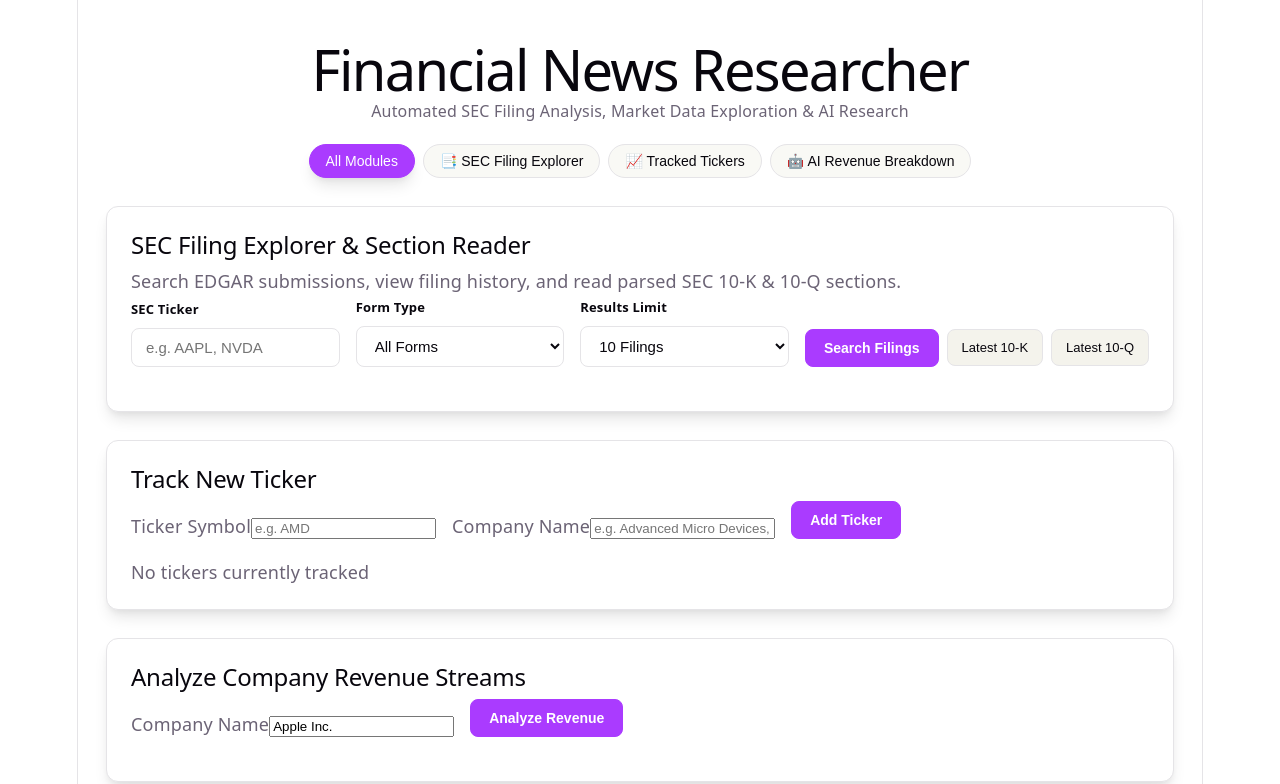
Test case: App Component Integration Tests › creates a new ticker and reloads tickers list
The image size is (1280, 784).
Expected: the text "No tickers currently tracked" is shown, [131,560,369,584]
Type "NVDA" into the field labelled "Ticker Symbol" at [344, 528], box [251,518,436,539]
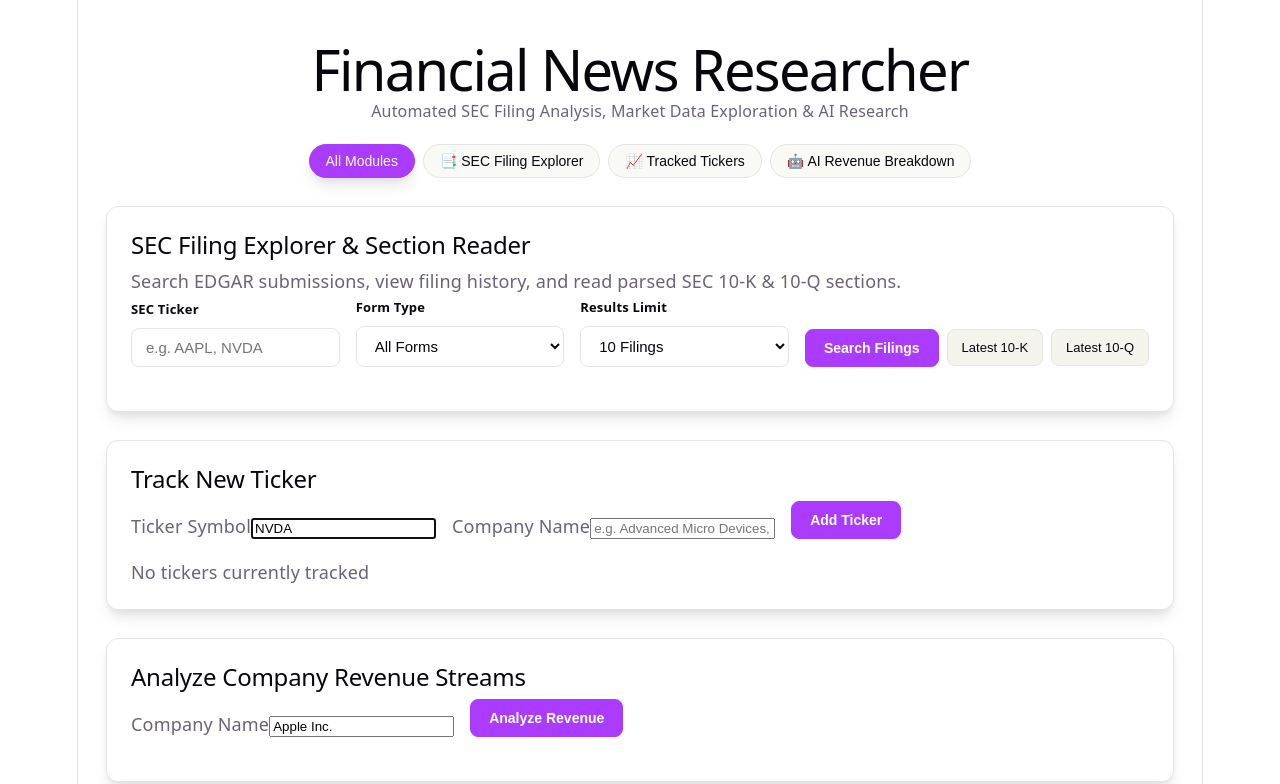
Type "NVIDIA Corporation" into the field labelled "Company Name" at [683, 528], box [590,518,775,539]
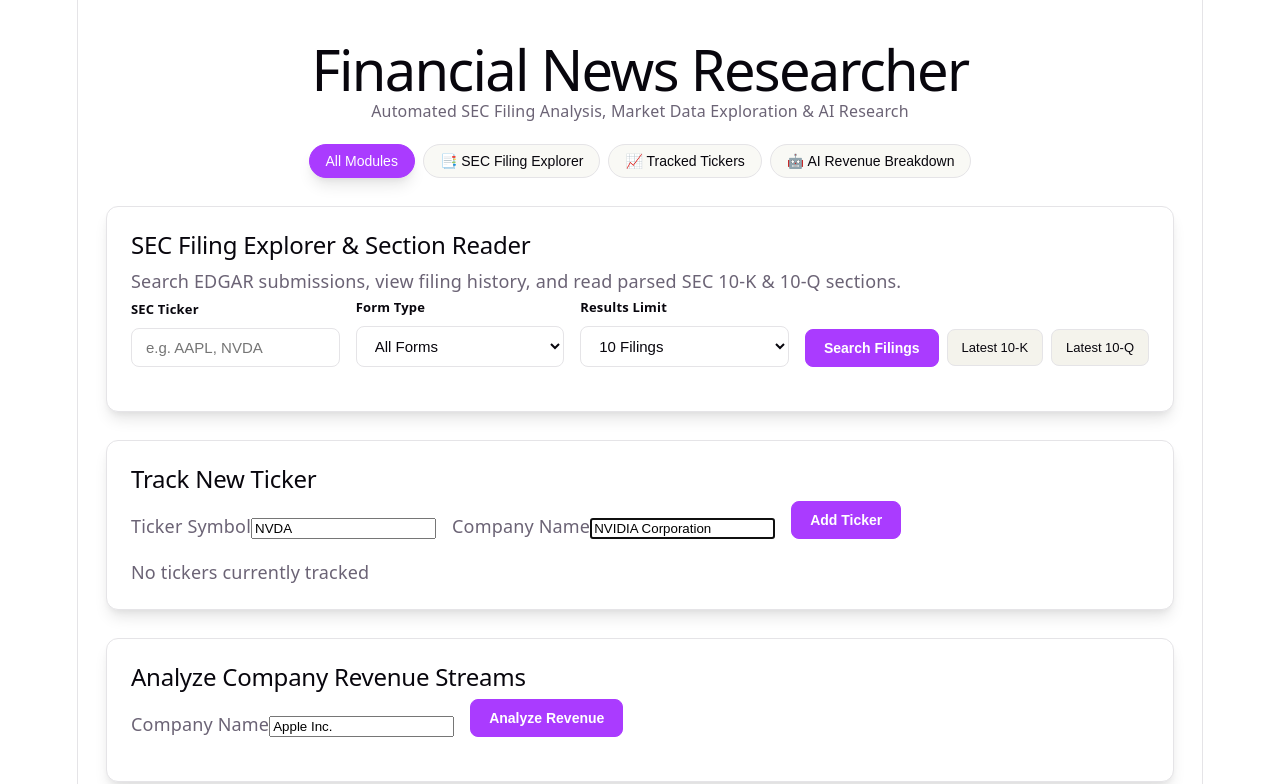
Click the button "Add Ticker" at [846, 520], box [791,501,901,539]
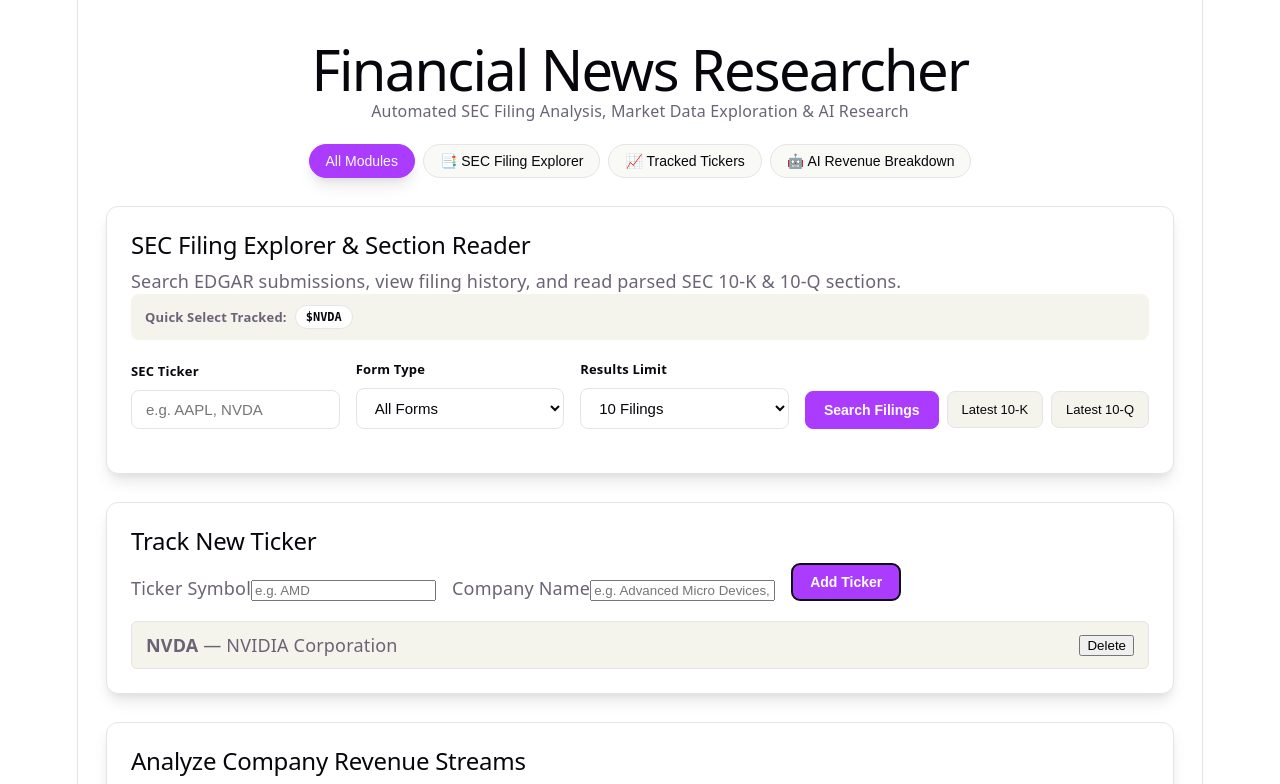
Expected: the text "NVDA" is shown, [146,633,198,657]
